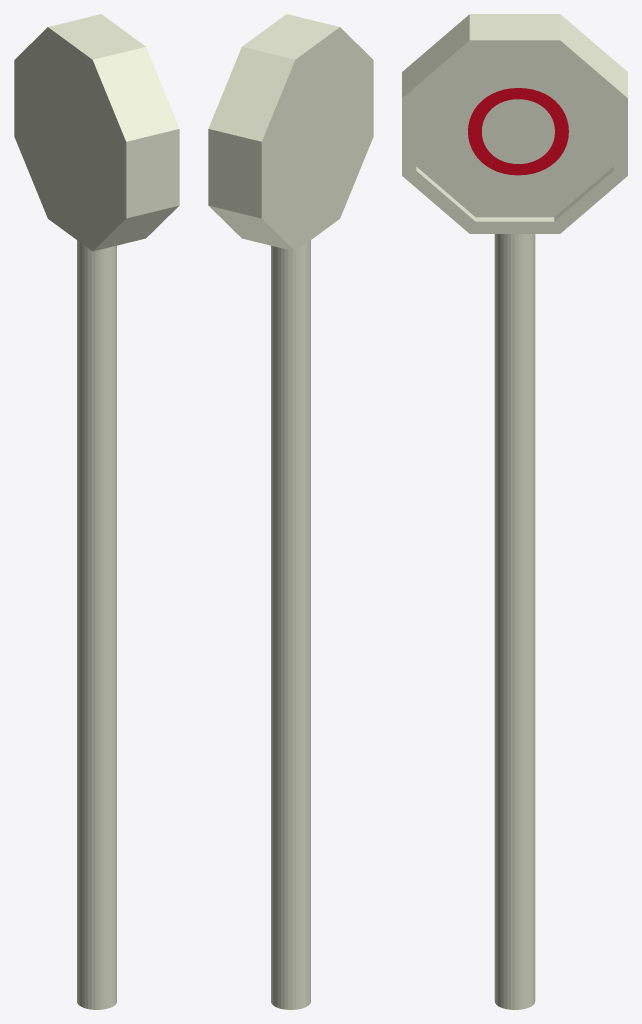
File: O_CPTObject 1.fbx
The picture shows the model from 3 angles, left to right: view 1: azimuth 30°, elevation 25°; view 2: azimuth 150°, elevation 25°; view 3: azimuth 270°, elevation 25°; orthographic projection.
Visible parts, largest first — view 1: O_sign; view 2: O_sign; view 3: O_sign.
Part boxes in pixels (<box>): O_sign: <box>14,14,179,1009</box>; O_sign: <box>208,14,373,1009</box>; O_sign: <box>402,14,627,1009</box>.
Size of the model in its own units: 55.16 by 952 by 200.
